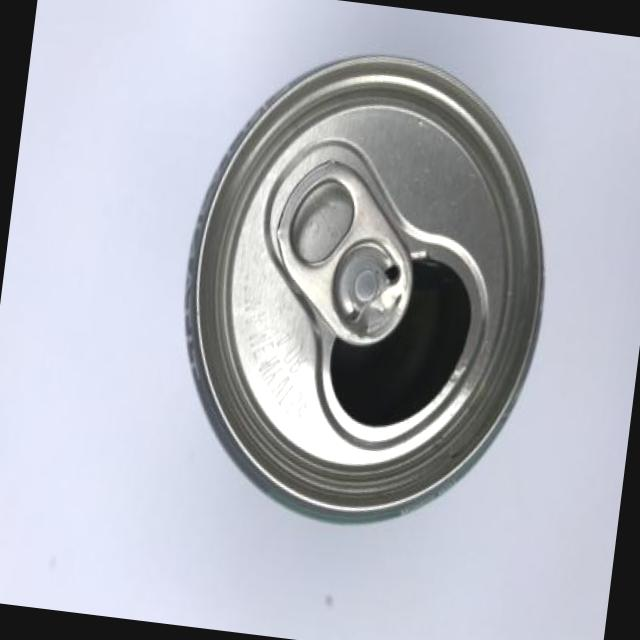nhom: (184, 49, 546, 524)
